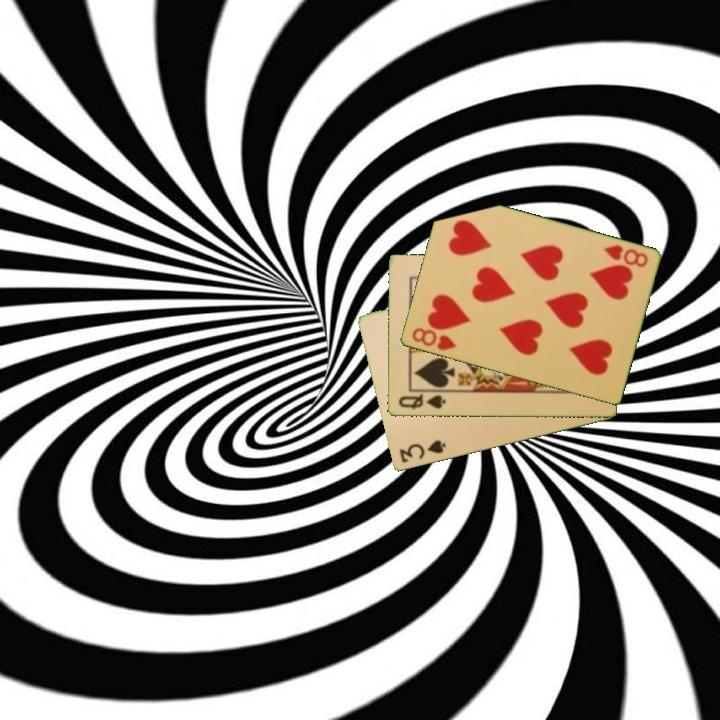3s: (396, 437, 449, 466)
8h: (408, 324, 459, 354), (600, 241, 651, 270)
Qs: (395, 390, 448, 412)
